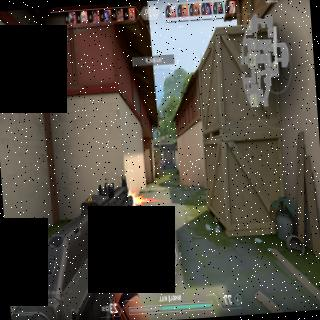ENEMY-BODY: (162, 159, 166, 171)
ENEMY-HEAD: (162, 160, 163, 162)
